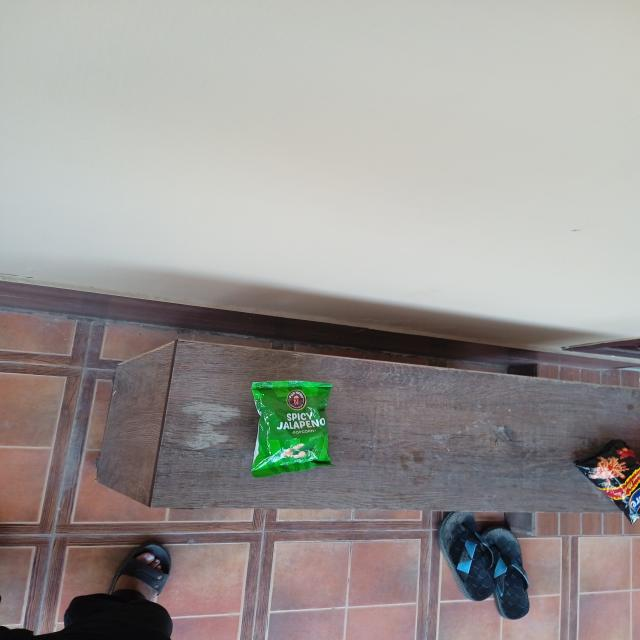Plastic: (248, 376, 336, 480)
